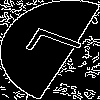L: (24, 25, 95, 70)
